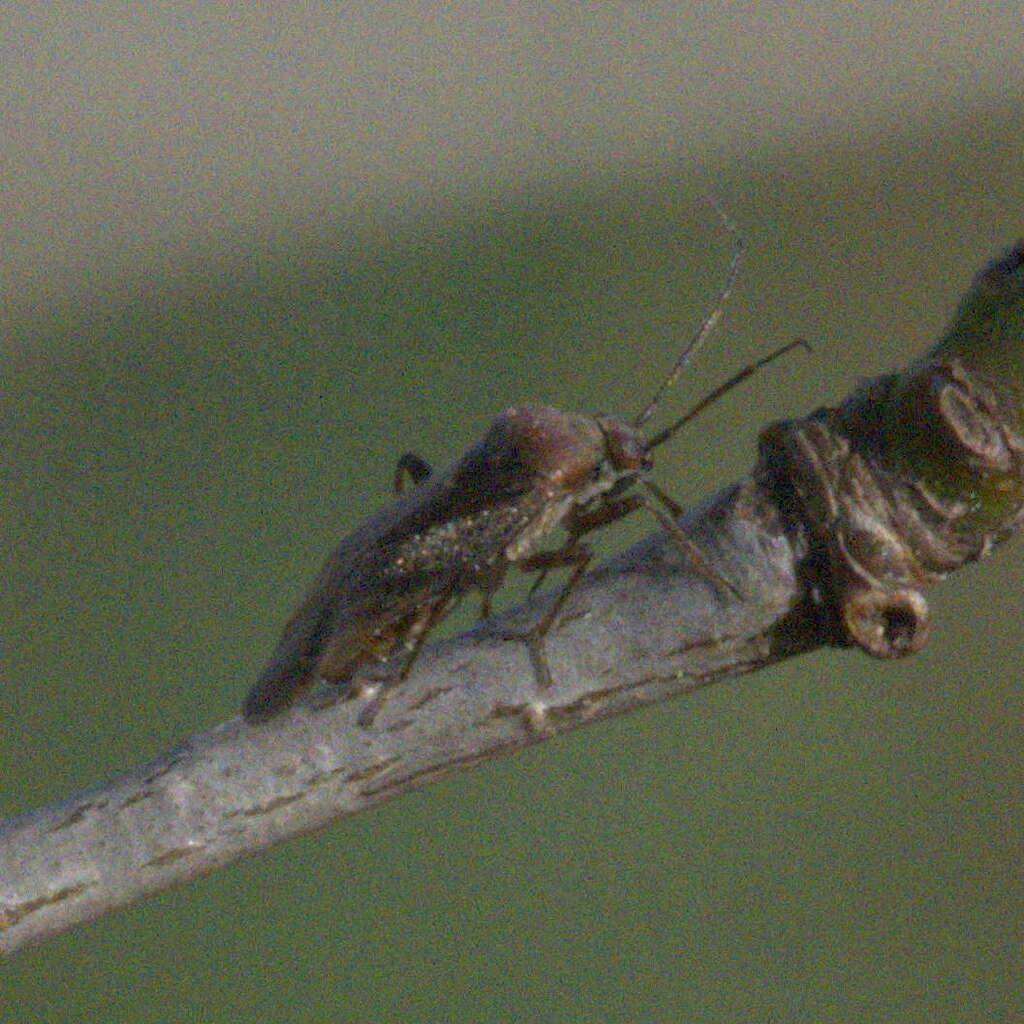plant_bugs: (196, 192, 828, 793)
